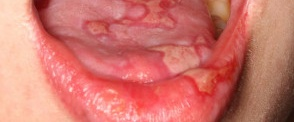SJS-TEN: (136, 8, 245, 105), (88, 0, 185, 37)
